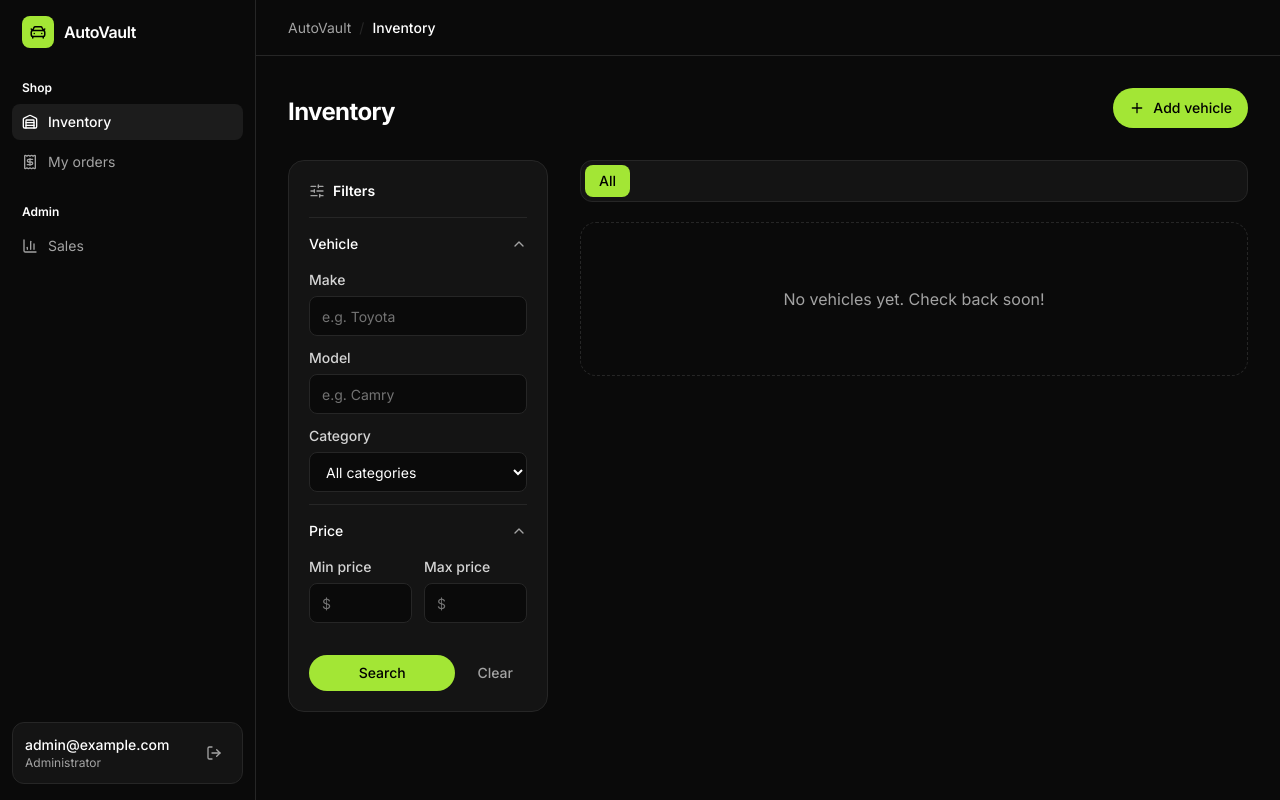
Test case: admin adds a vehicle and it appears in the inventory
expect the text "No vehicles yet. Check back soon!" is shown: met, box [580, 222, 1248, 376]
Click the button "Add vehicle": (1181, 108) [1113, 88, 1248, 128]
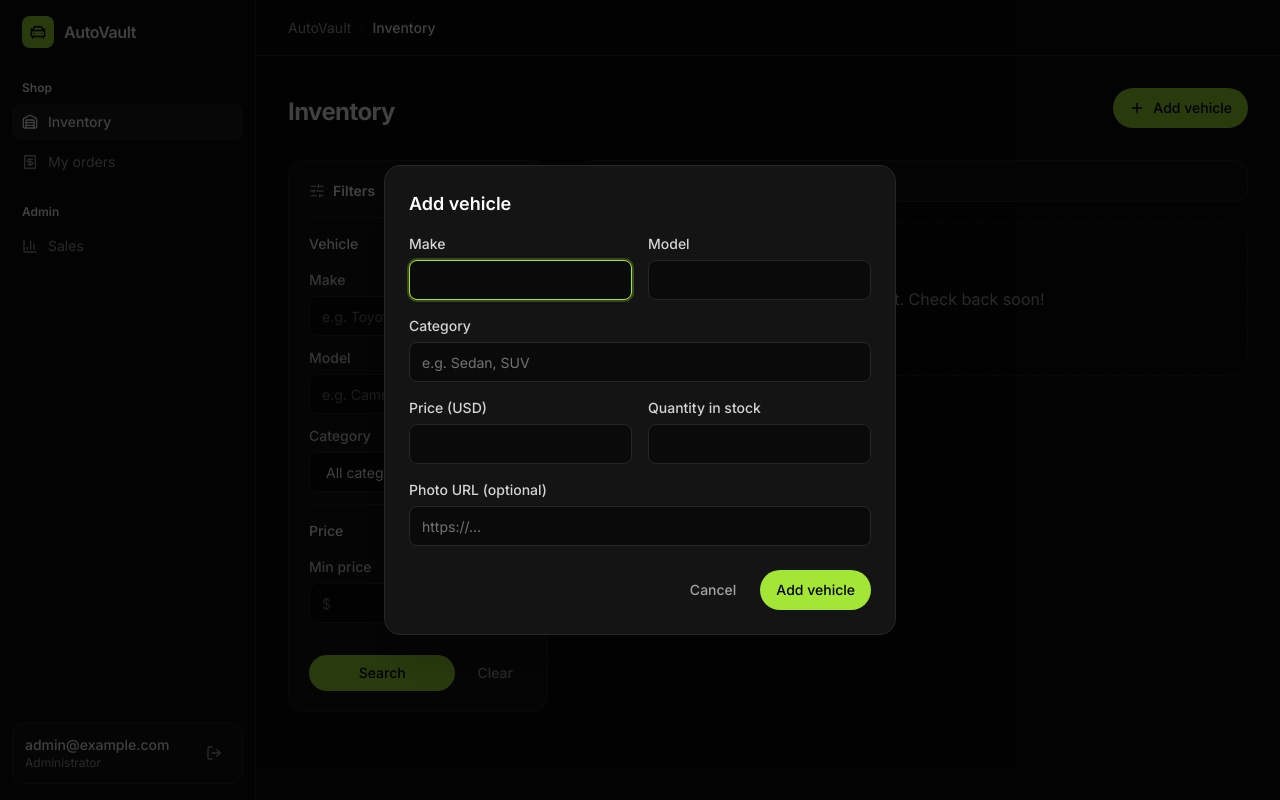
In the field labelled "Make": (520, 280) [409, 260, 632, 300], type "Honda"
In the field labelled "Model": (760, 280) [648, 260, 871, 300], type "Civic"
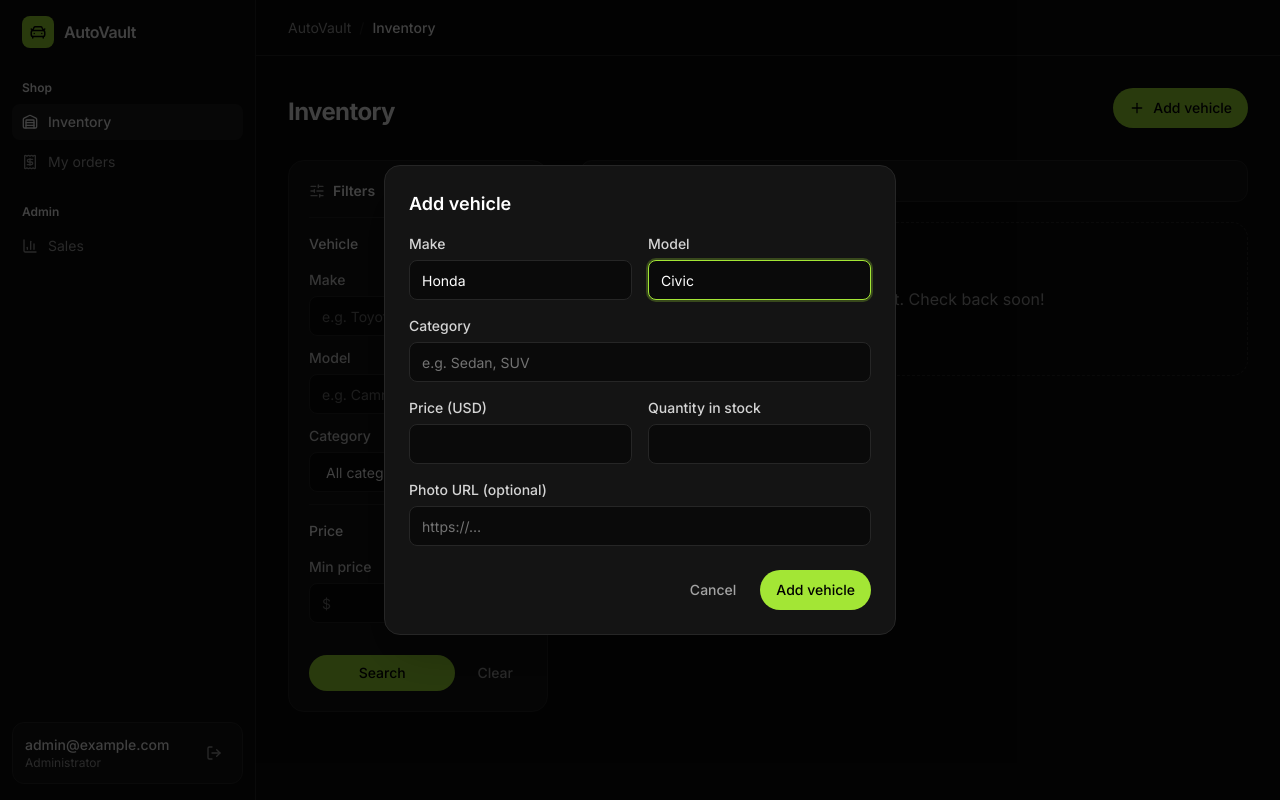
In the field labelled "Category": (640, 362) [409, 342, 871, 382], type "Sedan"
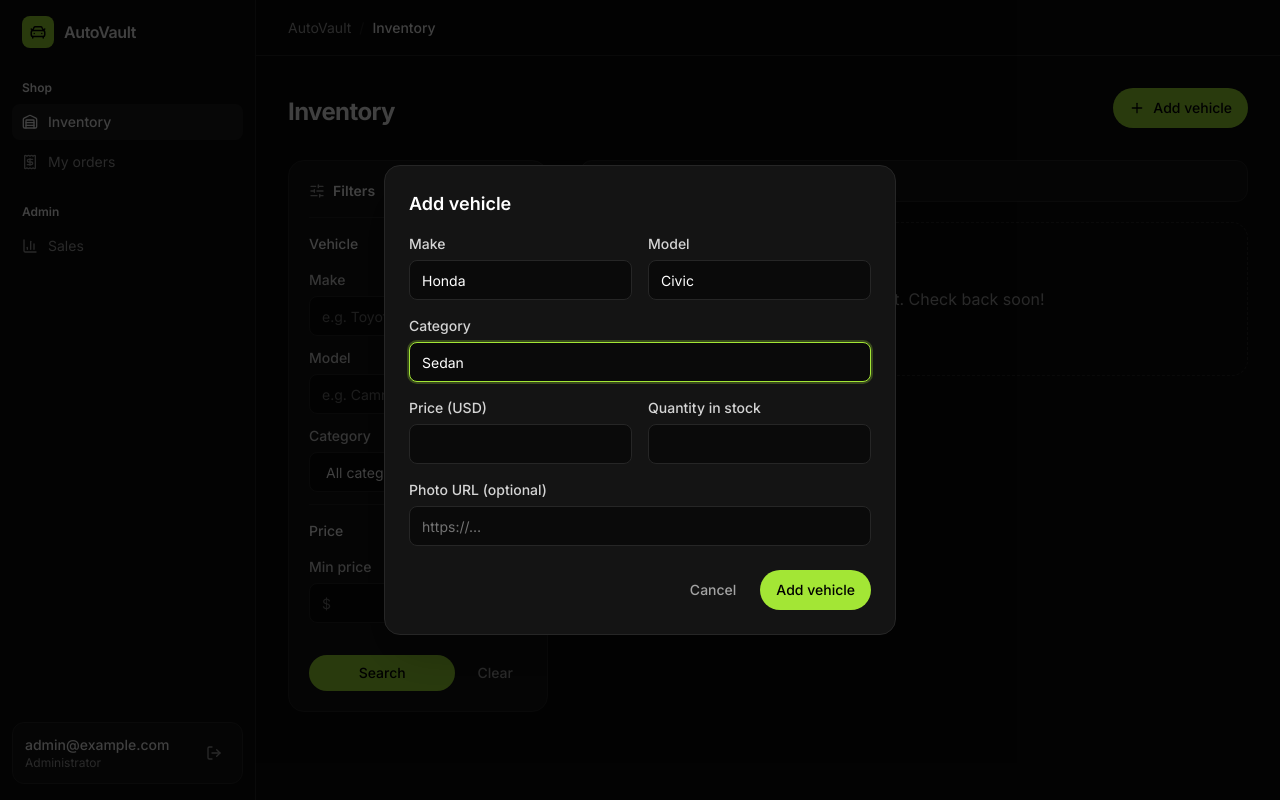
In the number field labelled "Price (USD)": (520, 444) [409, 424, 632, 464], type "23500"
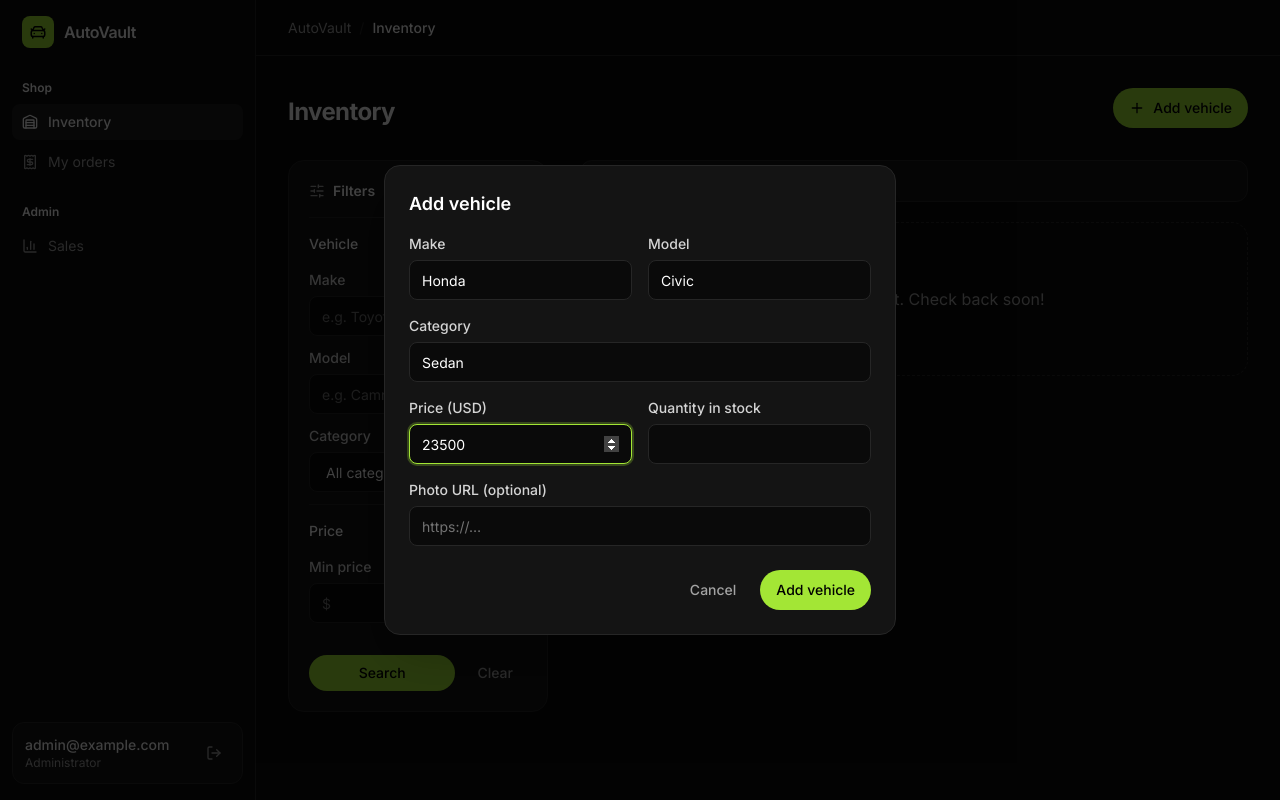
In the number field labelled "Quantity in stock": (760, 444) [648, 424, 871, 464], type "8"
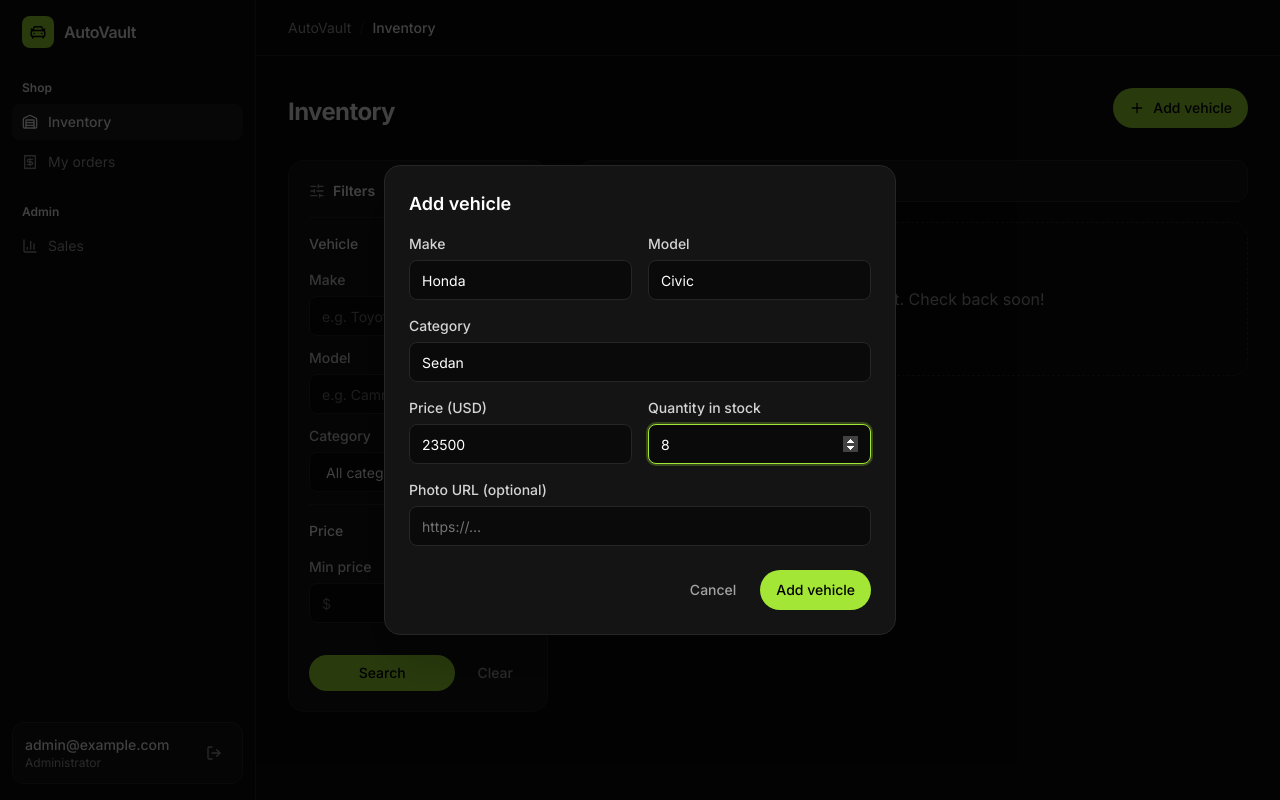
Click the button "Add vehicle": (816, 590) [760, 570, 871, 610]
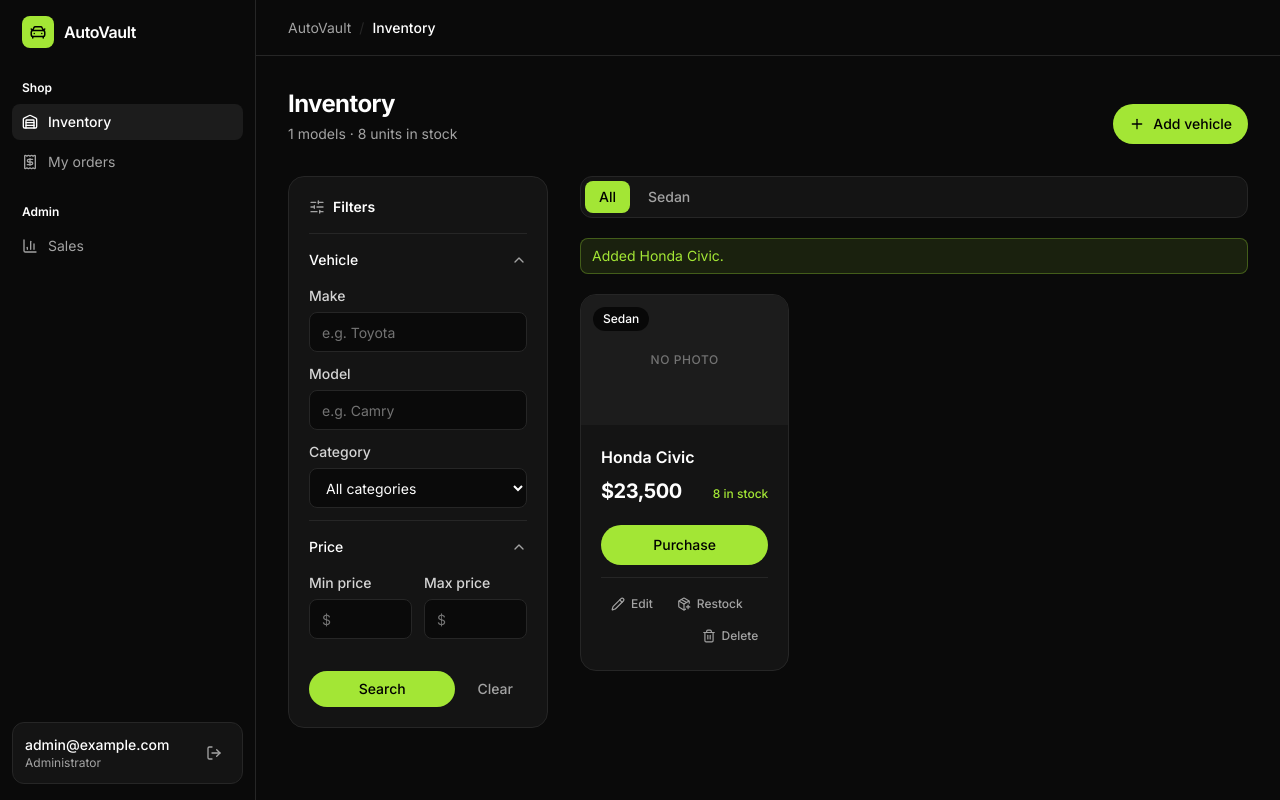
expect the element "Honda Civic" is shown: met, box [580, 294, 789, 671]
expect the dialog is gone: met
expect the message shows "Added Honda Civic": met, box [592, 247, 724, 264]
